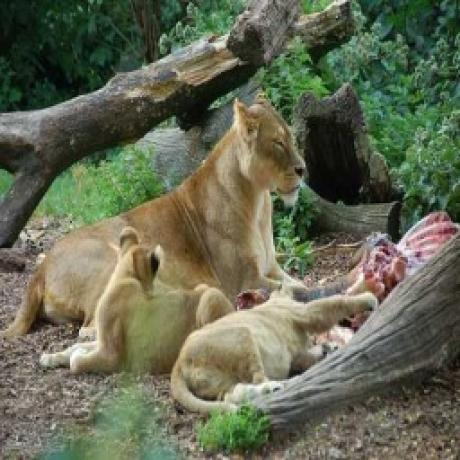Lion: (11, 88, 312, 329), (64, 224, 231, 373)
